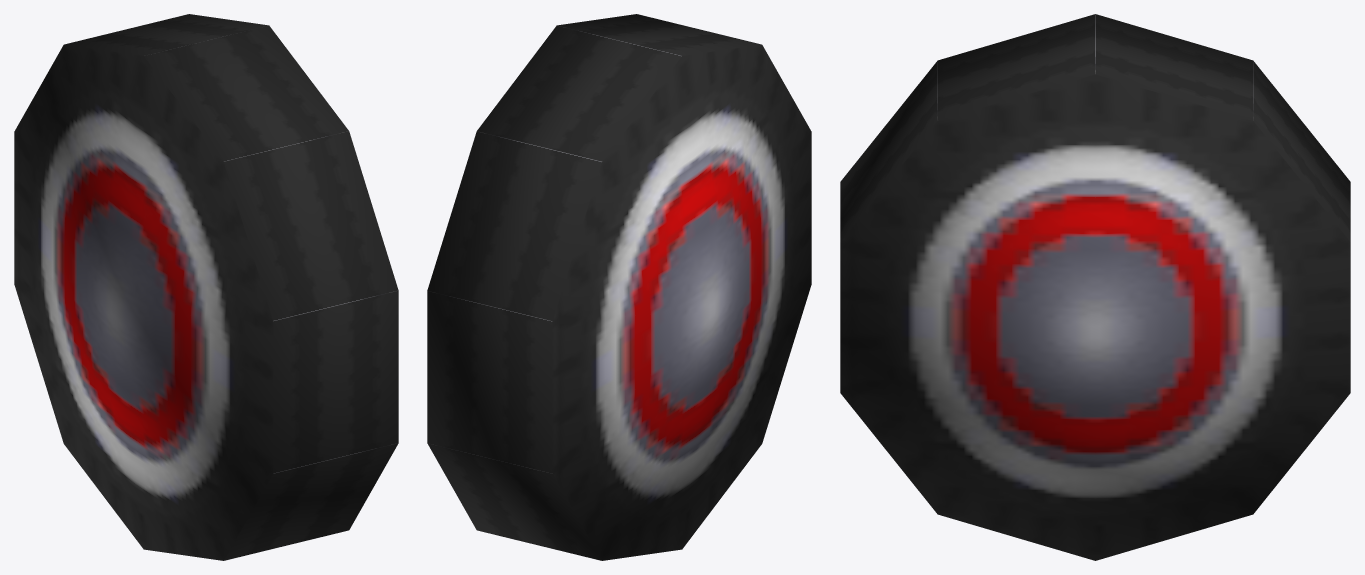
The model's file is tire_classic_R.dae.
3 renders of one model, left to right at view 1: azimuth 30°, elevation 25°; view 2: azimuth 150°, elevation 25°; view 3: azimuth 270°, elevation 25°, orthographic.
Visible parts, largest first — view 1: _0_0_node; view 2: _0_0_node; view 3: _0_0_node.
Part boxes in pixels (x1,y1,x2,y2): _0_0_node: (14, 14, 398, 560); _0_0_node: (427, 14, 811, 560); _0_0_node: (840, 14, 1350, 560).
Size of the model in its own units: 2.72 by 6.84 by 6.5.
Materials: 1 (1 with a texture image).
